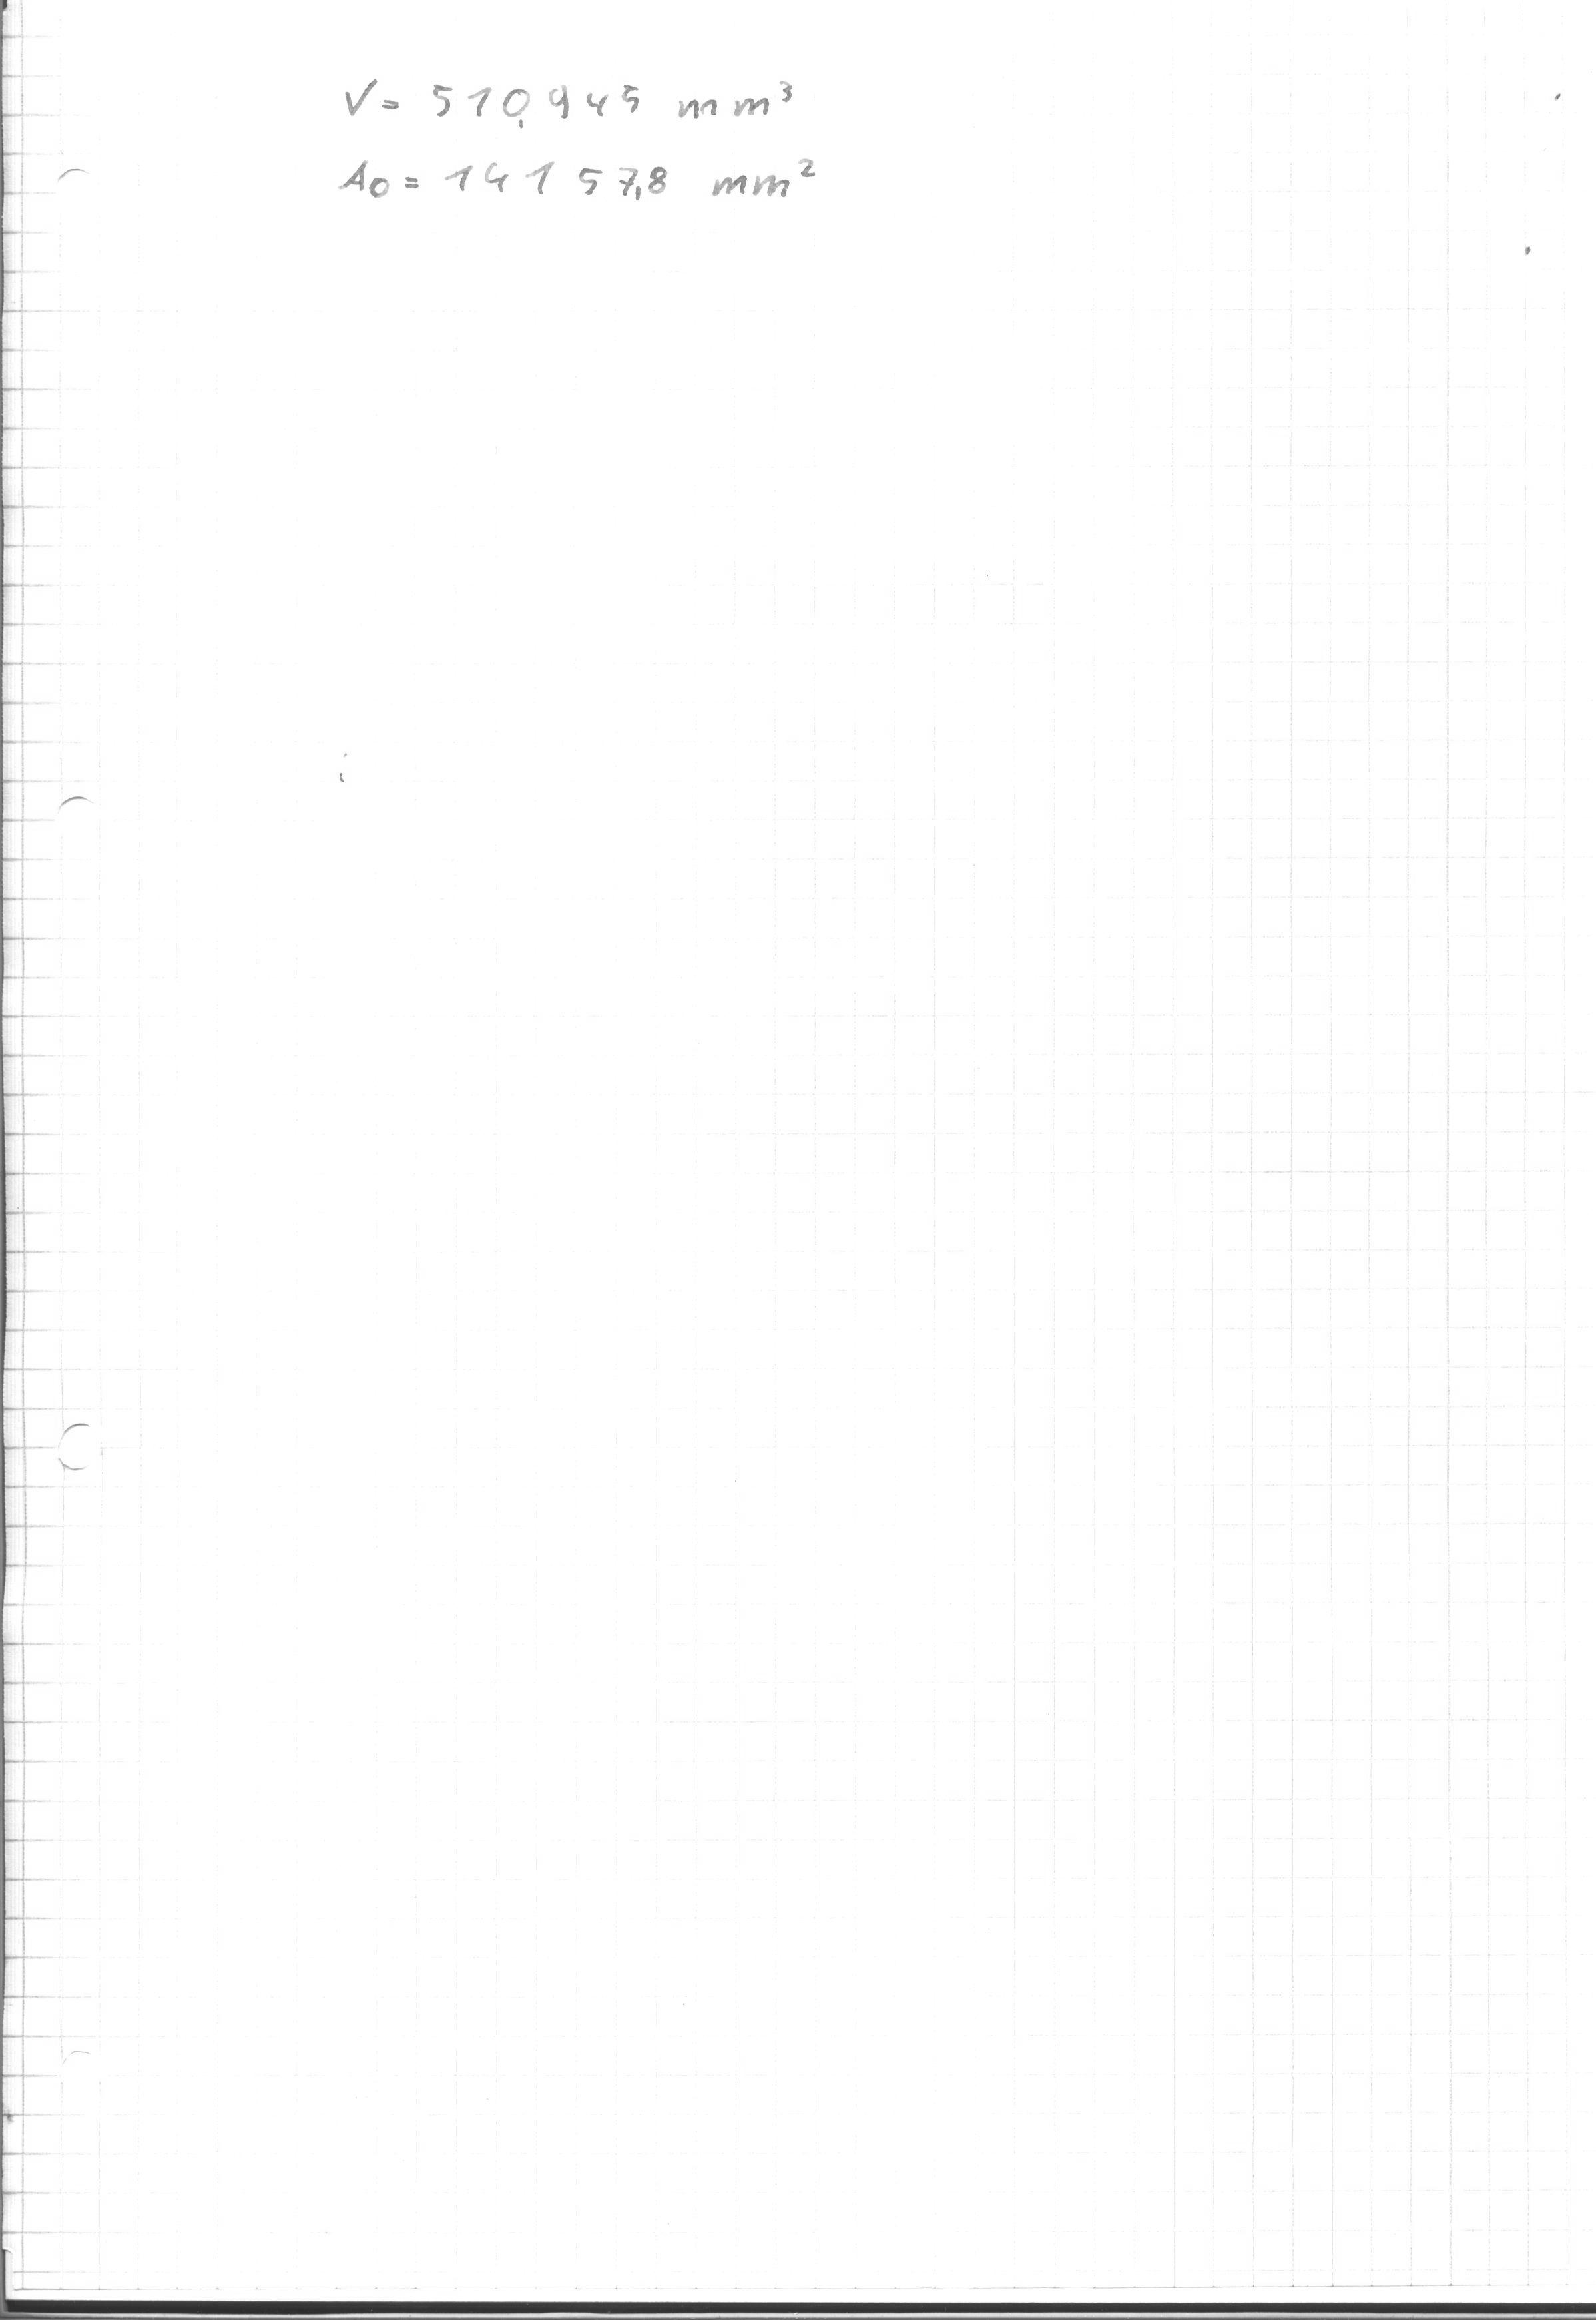word: (299, 40, 839, 230)
